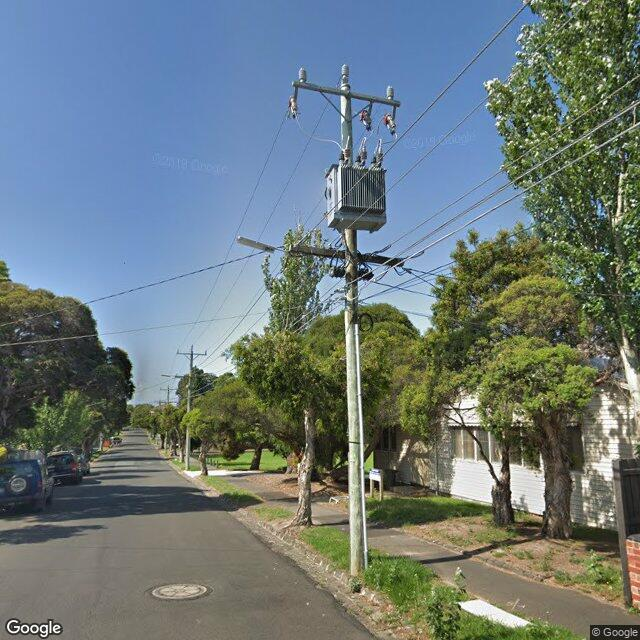HV-transmission: (299, 63, 393, 100), (177, 344, 207, 354)
crossarm: (292, 81, 401, 107), (289, 245, 404, 268), (176, 353, 207, 355), (160, 388, 176, 391), (174, 375, 185, 379), (157, 401, 175, 403)
streetlight: (236, 237, 289, 254), (160, 374, 174, 378)
timber-pole: (340, 84, 366, 576), (186, 346, 193, 471), (165, 385, 170, 455)
transformer: (324, 136, 388, 232)
